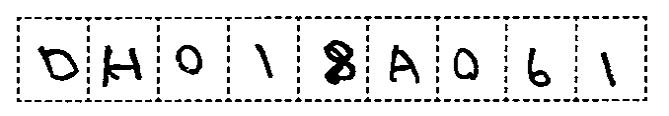0: (172, 39, 208, 81), (448, 44, 484, 85)
1: (248, 38, 286, 86), (593, 44, 628, 93)
6: (519, 44, 557, 90)
8: (318, 36, 360, 88)
A: (378, 40, 426, 90)
D: (31, 40, 83, 84)
H: (95, 39, 146, 89)
